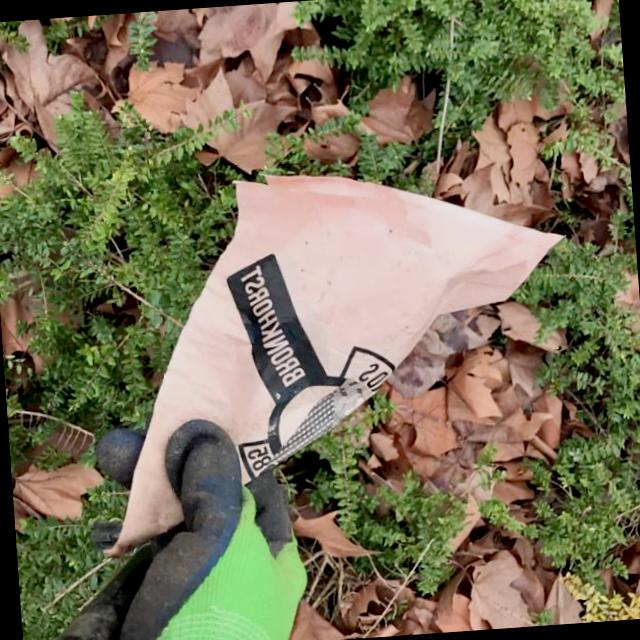Paper: (69, 146, 592, 567)
